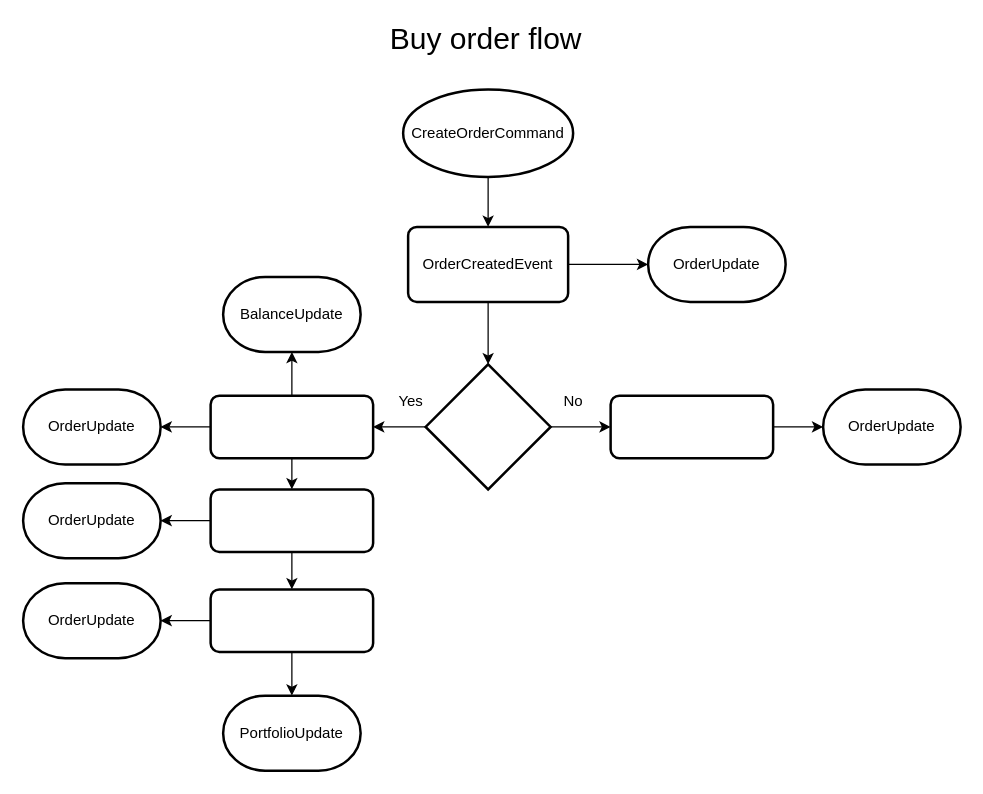
This 983x794 diagram has some shape labels left out. The shapes that lost their labels are listed below. From the top down, each one's centre as x and y in pixels, then its label:
At point 291,426: "OrderAcceptedEvent".
At point 487,426: "Enough balance?".
At point 691,426: "OrderRejectedEvent".
At point 291,520: "OrderPlacedEvent".
At point 291,620: "OrderFulfilledEvent".
